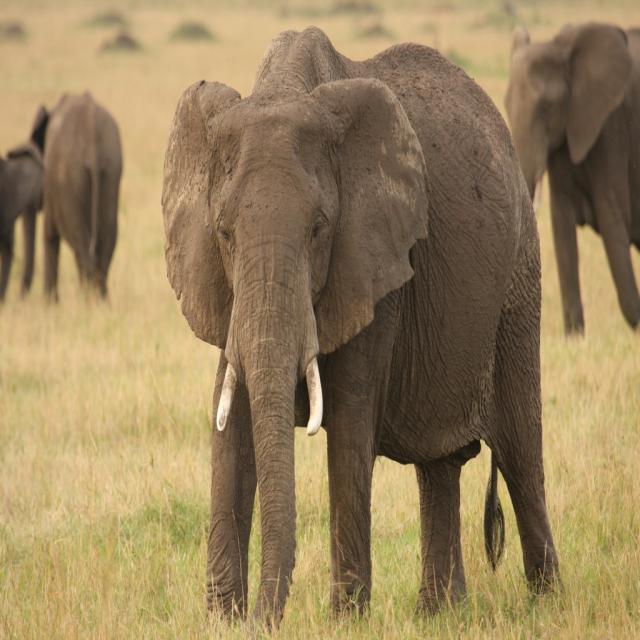Elephant: (160, 24, 564, 634), (504, 19, 639, 339), (29, 89, 123, 305), (0, 140, 45, 302)
